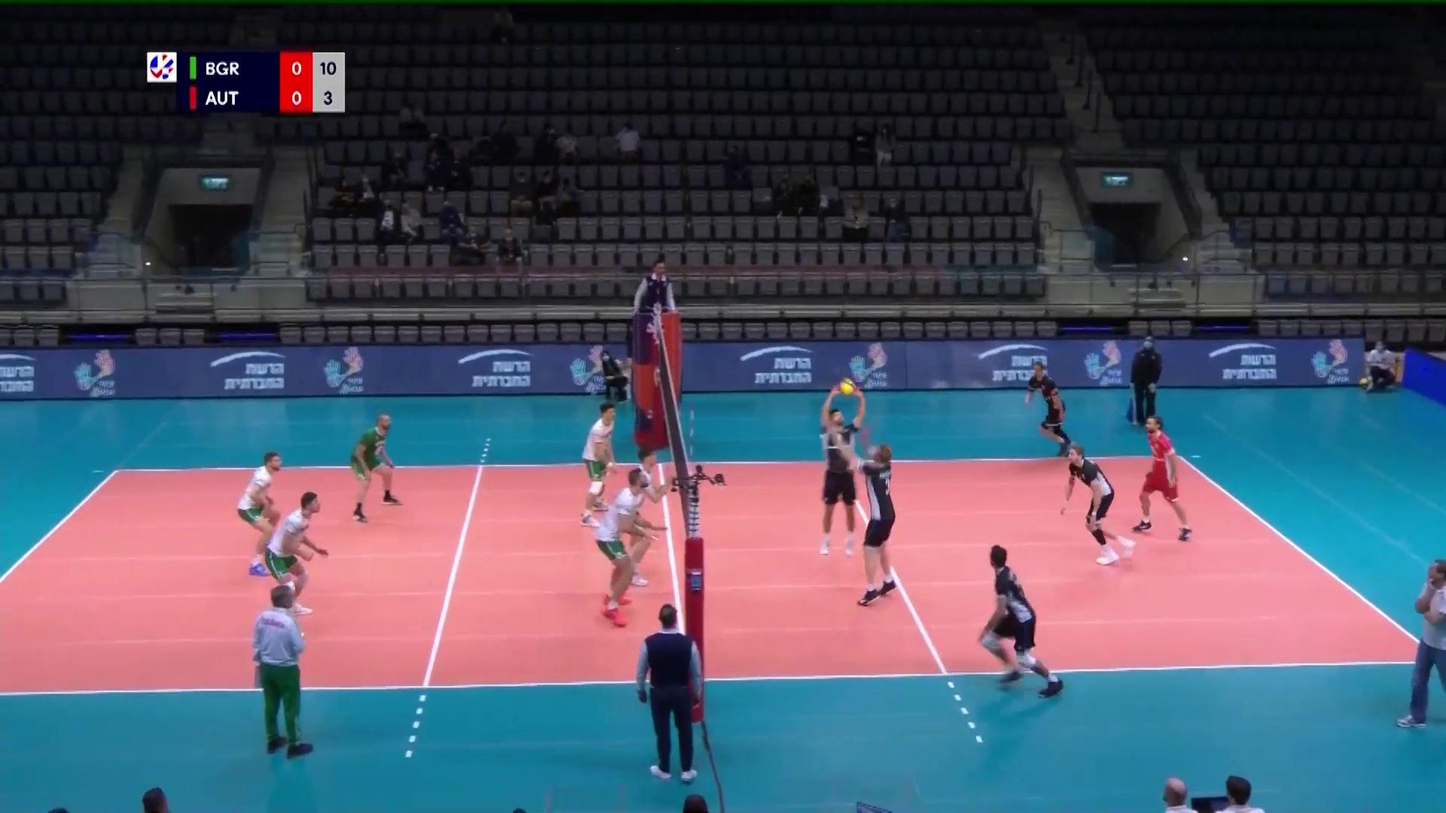ball: (839, 378, 860, 396)
